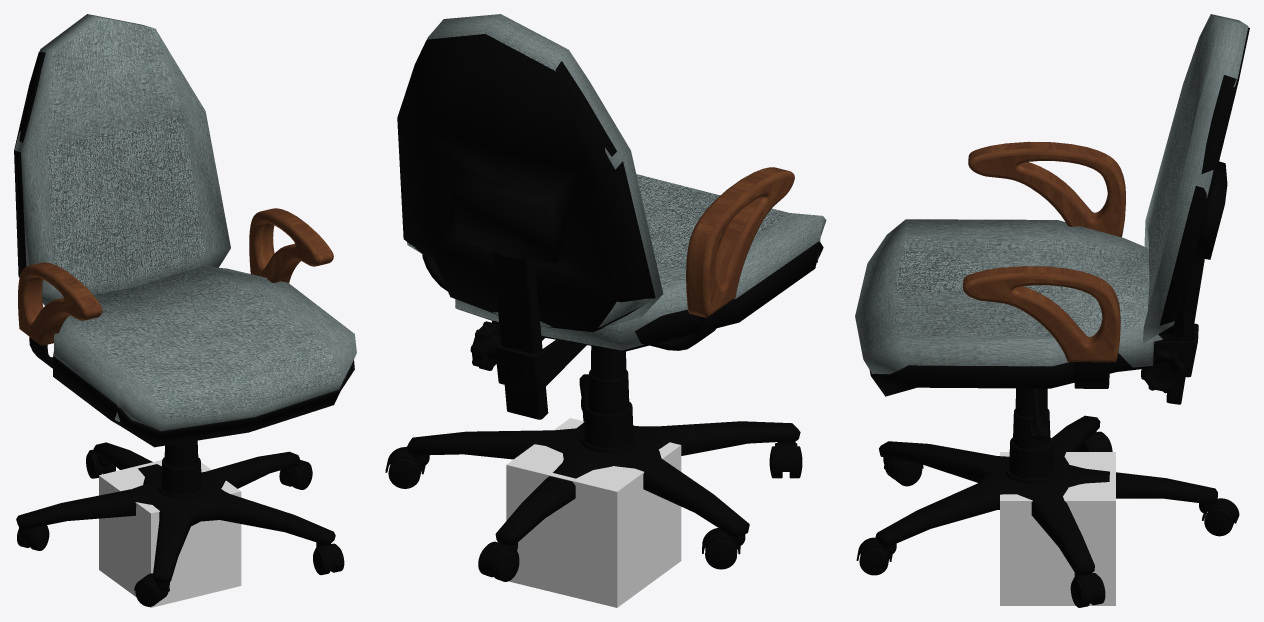
The picture shows the model from 3 angles, left to right: view 1: azimuth 30°, elevation 25°; view 2: azimuth 150°, elevation 25°; view 3: azimuth 270°, elevation 25°; orthographic projection. The views are drawn at different scales.
Visible parts, largest first — view 1: Cube.001, Cube_2, Cylinder, Cube, Низ_сидения_3, Выдавливание, Cone, Закругление_1, Низ_сидения, Закругление_2, Шапка_1, Шапка_2 (+2 smaller); view 2: Низ_сидения, Cube, Cylinder, Cube_2, Cube.001, Стойка_спинки, Cone, Низ_сидения_3, Выдавливание, Extrude_NURBS_2, Закругление_1, Шапка_1 (+7 smaller); view 3: Cube_2, Cylinder, Cube.001, Cube, Низ_сидения, Низ_сидения_3, Закругление_1, Выдавливание, Закругление_2, Cone, Шапка_1, Шапка_2 (+8 smaller).
Part boxes in pixels (x1=…): Cube.001: x1=15, y1=14, x2=230, y2=305; Cube_2: x1=54, y1=266, x2=356, y2=431; Cylinder: x1=16, y1=442, x2=335, y2=582; Cube: x1=99, y1=460, x2=241, y2=607; Низ_сидения_3: x1=53, y1=352, x2=354, y2=447; Выдавливание: x1=28, y1=208, x2=331, y2=345; Cone: x1=158, y1=440, x2=204, y2=498; Закругление_1: x1=18, y1=208, x2=333, y2=345; Низ_сидения: x1=14, y1=51, x2=45, y2=277; Закругление_2: x1=39, y1=211, x2=319, y2=333; Шапка_1: x1=18, y1=270, x2=82, y2=341; Шапка_2: x1=249, y1=216, x2=313, y2=281; Низ_сидения: x1=397, y1=34, x2=655, y2=332; Cube: x1=506, y1=418, x2=681, y2=607; Cylinder: x1=406, y1=374, x2=800, y2=545; Cube_2: x1=455, y1=174, x2=826, y2=350; Cube.001: x1=407, y1=14, x2=663, y2=327; Стойка_спинки: x1=493, y1=252, x2=548, y2=419; Cone: x1=580, y1=346, x2=637, y2=452; Низ_сидения_3: x1=457, y1=241, x2=823, y2=351; Выдавливание: x1=688, y1=167, x2=788, y2=317; Extrude_NURBS_2: x1=494, y1=337, x2=586, y2=392; Закругление_1: x1=702, y1=171, x2=794, y2=317; Шапка_1: x1=709, y1=177, x2=793, y2=311; Cube_2: x1=855, y1=219, x2=1154, y2=374; Cylinder: x1=875, y1=415, x2=1217, y2=574; Cube.001: x1=1142, y1=14, x2=1248, y2=343; Cube: x1=1000, y1=452, x2=1115, y2=605; Низ_сидения: x1=1158, y1=27, x2=1249, y2=339; Низ_сидения_3: x1=869, y1=353, x2=1149, y2=396; Закругление_1: x1=963, y1=141, x2=1120, y2=362; Выдавливание: x1=963, y1=142, x2=1125, y2=343; Закругление_2: x1=965, y1=148, x2=1125, y2=337; Cone: x1=1005, y1=388, x2=1057, y2=483; Шапка_1: x1=967, y1=279, x2=1115, y2=359; Шапка_2: x1=973, y1=154, x2=1120, y2=235.
Size of the model in its own units: 6.52 by 10.72 by 6.81.
6 materials, 3 textured.
